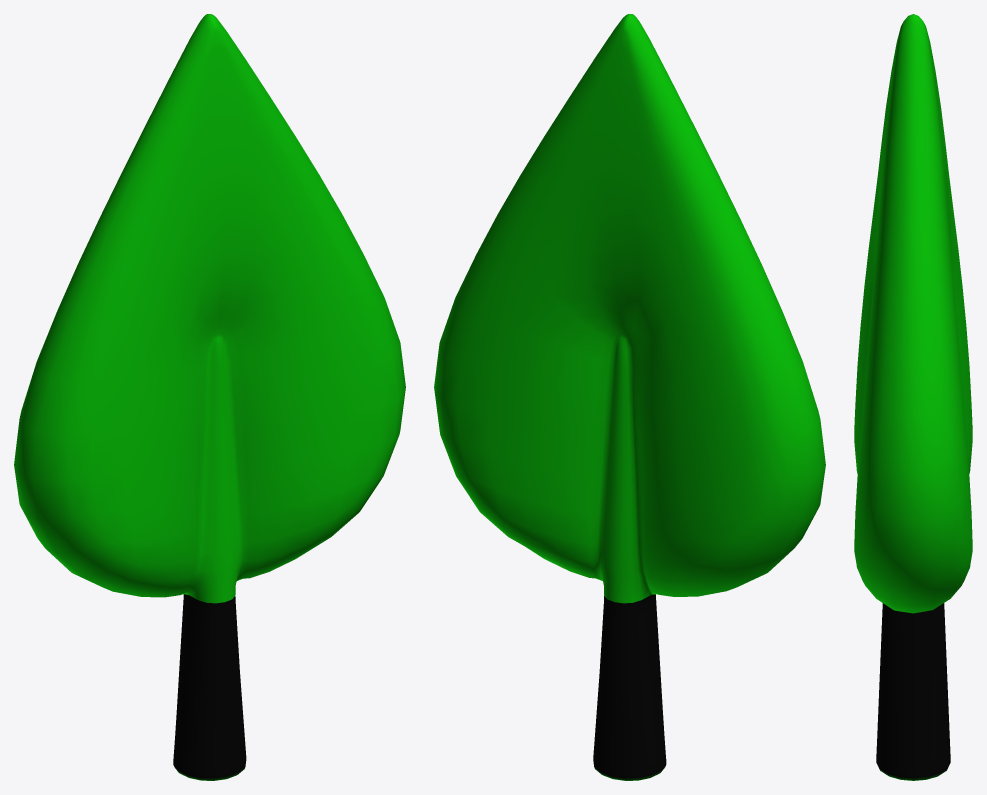
The model's file is SM_20012Folhinha.fbx.
The picture shows the model from 3 angles, left to right: view 1: azimuth 30°, elevation 25°; view 2: azimuth 150°, elevation 25°; view 3: azimuth 270°, elevation 25°; orthographic projection.
Visible parts, largest first — view 1: SM_20012Folhinha_geo_1; view 2: SM_20012Folhinha_geo_1; view 3: SM_20012Folhinha_geo_1.
Part boxes in pixels (x1=…): SM_20012Folhinha_geo_1: x1=14, y1=14, x2=405, y2=780; SM_20012Folhinha_geo_1: x1=434, y1=14, x2=825, y2=780; SM_20012Folhinha_geo_1: x1=854, y1=14, x2=972, y2=780.
Bounding box in the file's own units: 11.82 × 22.48 × 3.19.
